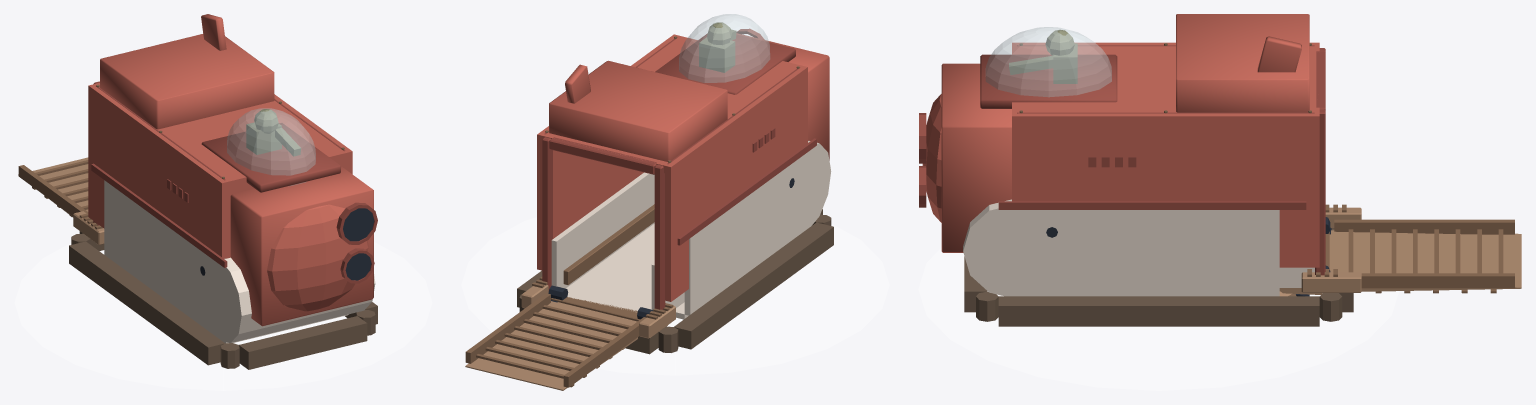
The model's file is socco-craft-v1.glb.
3 views of the same model, side by side, from view 1: azimuth 30°, elevation 25°; view 2: azimuth 150°, elevation 25°; view 3: azimuth 270°, elevation 25° (orthographic). The views are drawn at different scales.
Visible parts, largest first — view 1: socco-spray.002, n1.002, n7.002, n3.002, n9.002, n5.002, n70.002, n15.002, n16.002, n76.002, n11.002, n13.002 (+13 smaller); view 2: socco-spray.002, n1.002, n7.002, n9.002, n70.002, socco-ramp.002, socco-details-n0-SoccoV1_Source_m5.001, n15.002, n106.002, socco-hold-floor.002, n16.002, socco-details-n0-SoccoV1_Source_m11.001 (+19 smaller); view 3: n1.002, socco-spray.002, n9.002, n7.002, n3.002, n72.002, n15.002, socco-ramp.002, n16.002, n11.002, n14.002, socco-details-n0-SoccoV1_Source_m5.001 (+12 smaller).
Boxes of the visible parts, x1,y1,x2,y2 form: socco-spray.002: [15, 242, 431, 390]; n1.002: [88, 83, 352, 258]; n7.002: [100, 34, 274, 129]; n3.002: [230, 167, 373, 326]; n9.002: [104, 180, 348, 343]; n5.002: [267, 204, 368, 311]; n70.002: [69, 241, 224, 365]; n15.002: [227, 108, 315, 186]; n16.002: [201, 123, 340, 192]; n76.002: [239, 316, 367, 369]; n11.002: [211, 257, 375, 343]; n13.002: [91, 163, 227, 267]; socco-spray.002: [461, 217, 889, 375]; n1.002: [537, 34, 807, 301]; n7.002: [549, 60, 727, 174]; n9.002: [676, 151, 809, 319]; n70.002: [674, 222, 833, 349]; socco-ramp.002: [465, 301, 637, 390]; socco-details-n0-SoccoV1_Source_m5.001: [542, 37, 800, 309]; n15.002: [679, 14, 770, 82]; n106.002: [551, 172, 654, 288]; socco-hold-floor.002: [566, 224, 654, 312]; n16.002: [655, 33, 795, 94]; socco-details-n0-SoccoV1_Source_m11.001: [545, 36, 799, 321]; n1.002: [1012, 42, 1319, 267]; socco-spray.002: [918, 248, 1398, 390]; n9.002: [1012, 210, 1279, 296]; n7.002: [1176, 14, 1309, 112]; n3.002: [941, 63, 1011, 252]; n72.002: [998, 296, 1319, 326]; n15.002: [985, 27, 1111, 97]; socco-ramp.002: [1329, 230, 1521, 291]; n16.002: [980, 54, 1117, 108]; n11.002: [963, 199, 1067, 296]; n14.002: [998, 201, 1306, 209]; socco-details-n0-SoccoV1_Source_m5.001: [1017, 45, 1325, 275].
Size of the model in its own units: 7.2 by 4.71 by 9.02.
